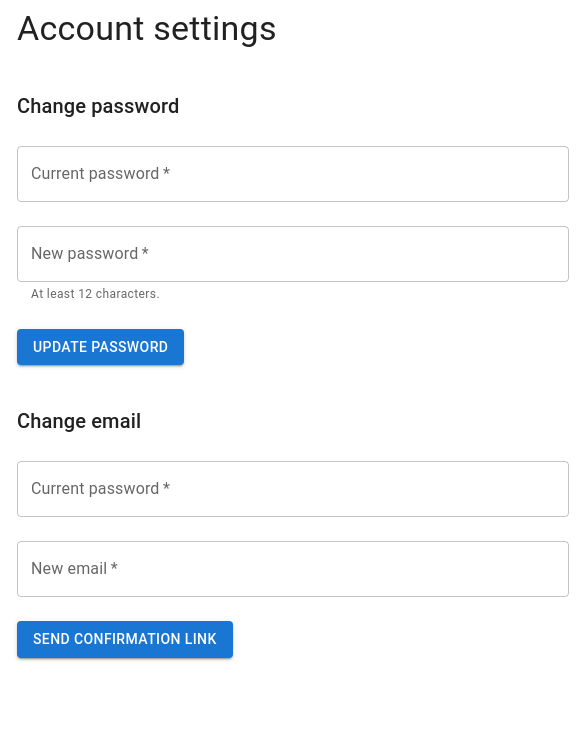
Scenario: AccountPage › confirms an email change request and clears the form
The image size is (586, 744).
Type "the-current-password" into the password field labelled "Current password *" below "Change email" at (293, 489), box top-left (17, 461), bottom-right (569, 517)
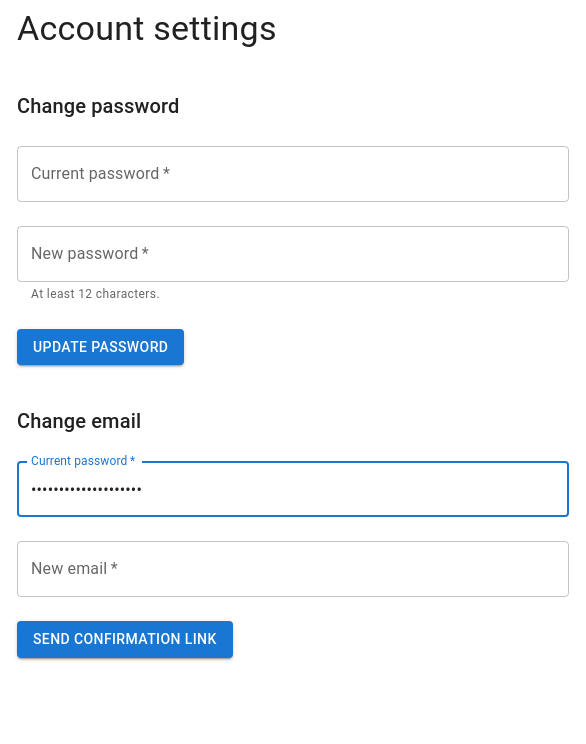
Type "new@example.com" into the field labelled "New email *" at (293, 569), box top-left (17, 541), bottom-right (569, 597)
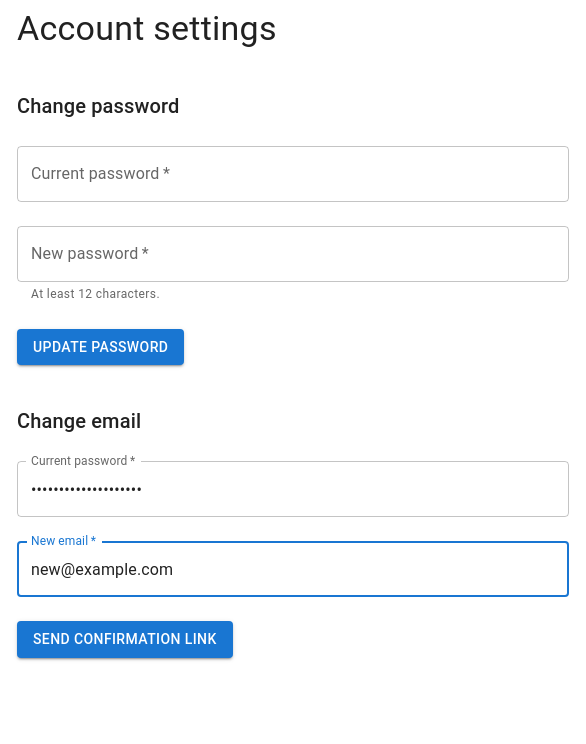
Click the button "Send confirmation link" at (125, 640), box top-left (17, 621), bottom-right (233, 658)
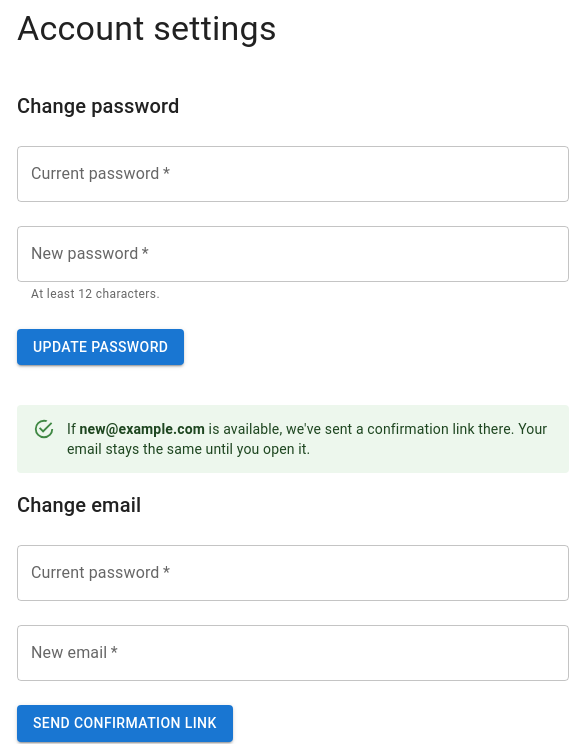
Now the text "sent a confirmation link there" is shown, box top-left (67, 421), bottom-right (547, 457)
Now the text "new@example.com" is shown, box top-left (80, 421), bottom-right (205, 437)
Now the password field labelled "Current password *" below "Change email" is empty, box top-left (17, 545), bottom-right (569, 601)
